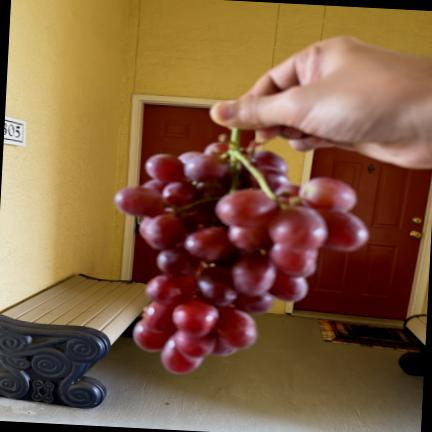grape_cluster: (115, 130, 368, 374)
